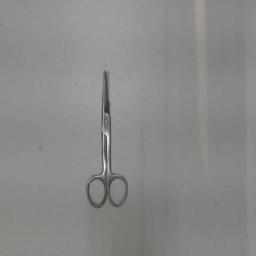Dressing Scissors: (81, 62, 133, 216)
